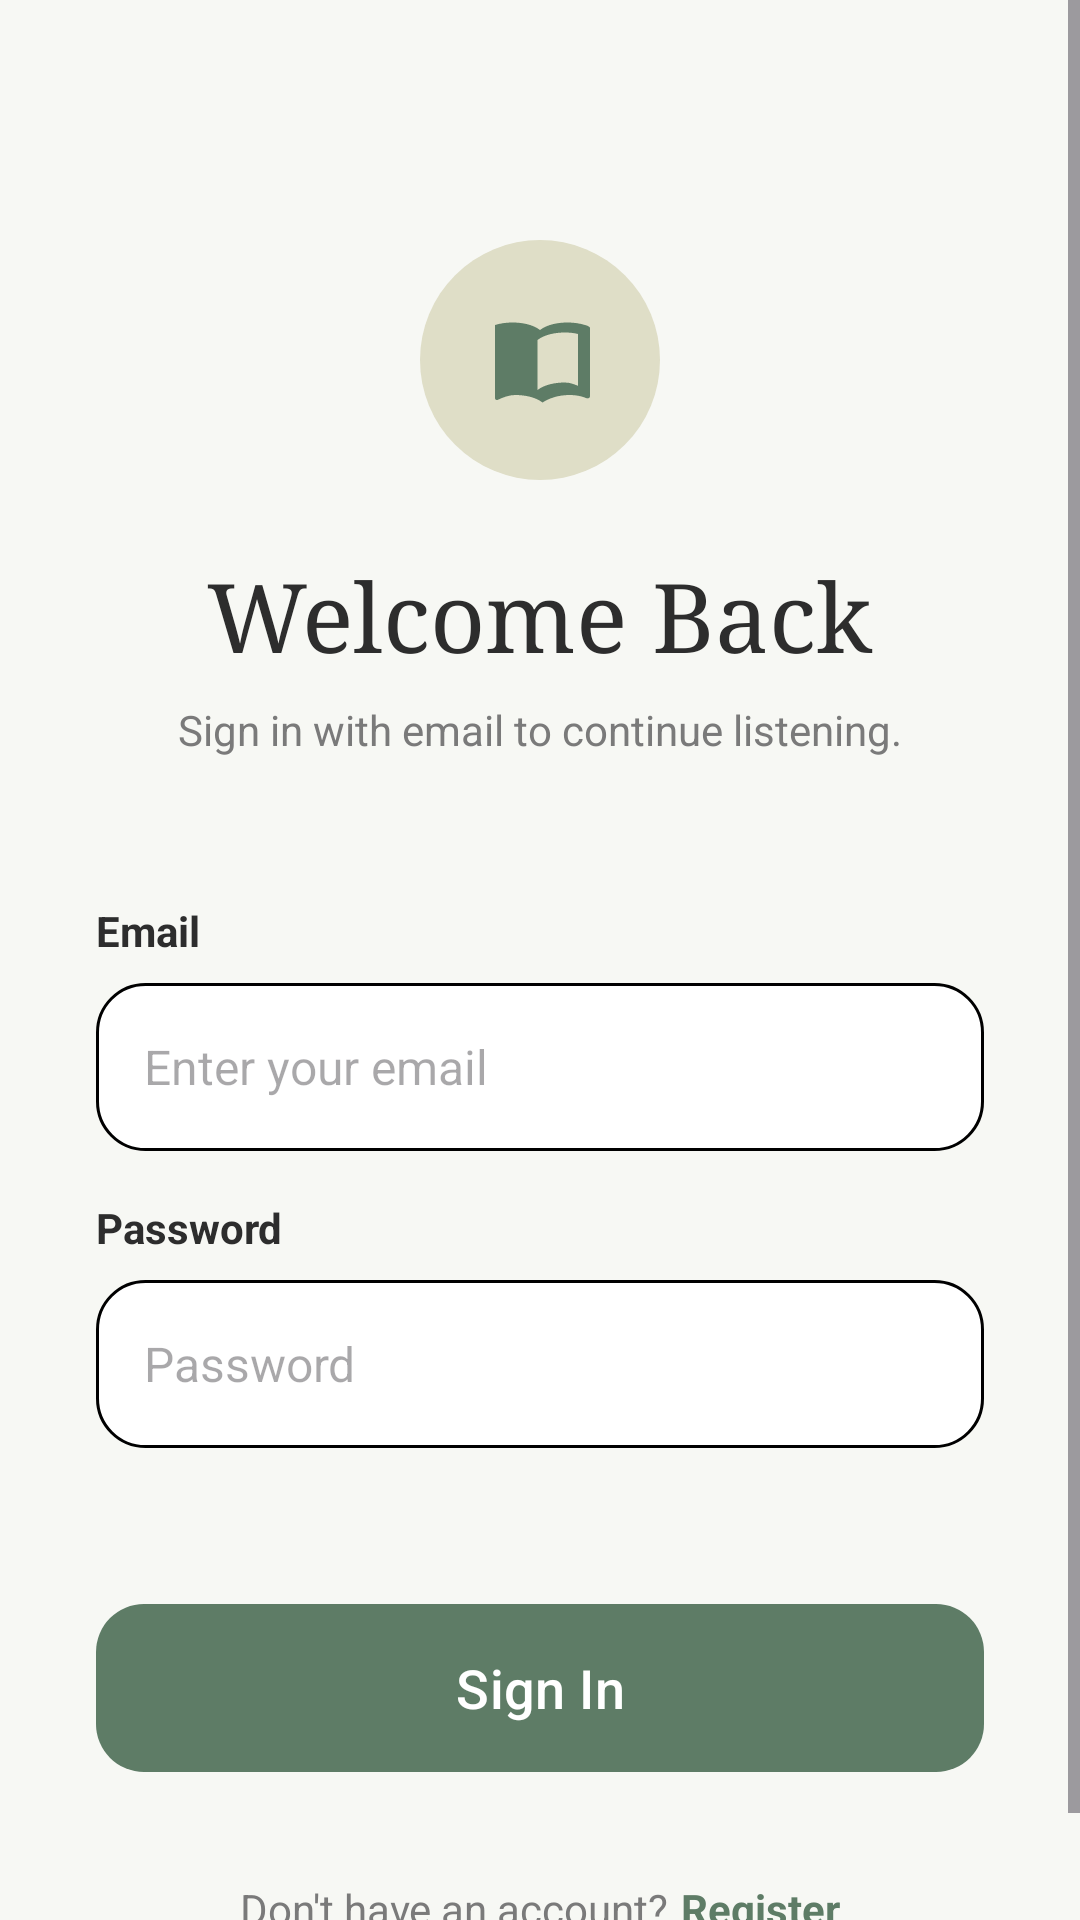

Where to tap for icons on this 1080 × 1920 app screen, as [x,y]:
book open: [542,362]
